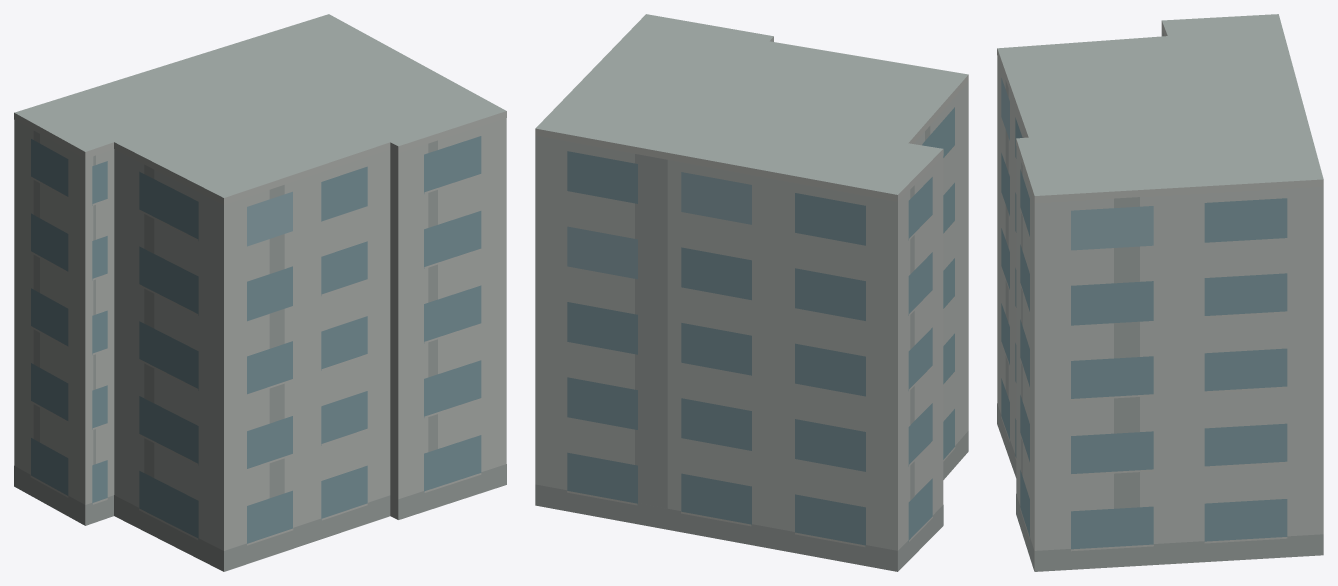
File: survey-upis-32576247.glb
The picture shows the model from 3 angles, left to right: view 1: azimuth 30°, elevation 25°; view 2: azimuth 150°, elevation 25°; view 3: azimuth 270°, elevation 25°; orthographic projection.
Parts seen in each view (by area): view 1: survey-upis-32576247.tmp; view 2: survey-upis-32576247.tmp; view 3: survey-upis-32576247.tmp.
Boxes of the visible parts, x1=… form: survey-upis-32576247.tmp: x1=14, y1=14, x2=506, y2=571; survey-upis-32576247.tmp: x1=535, y1=14, x2=968, y2=571; survey-upis-32576247.tmp: x1=997, y1=14, x2=1323, y2=571.
Size of the model in its own units: 13.57 by 13.05 by 10.28.
